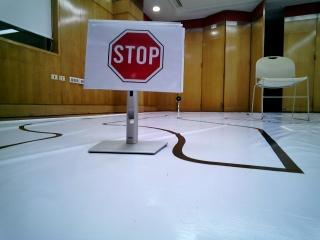stop: (85, 18, 180, 89)
